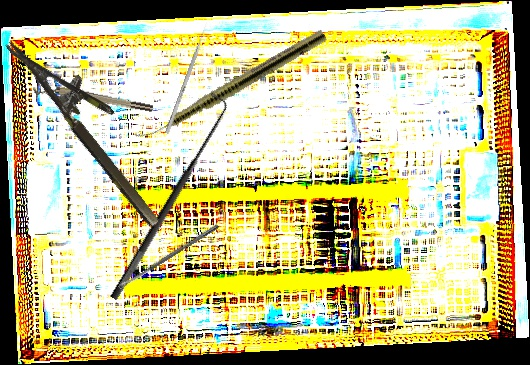Fixation Ring: (32, 78, 154, 119)
Handpiece: (133, 26, 328, 149)
Hook Surgical: (94, 91, 238, 303)
Needle Holder: (4, 17, 185, 230)
Pusher: (164, 21, 210, 135)
Surgical Spoon: (117, 223, 220, 290)
